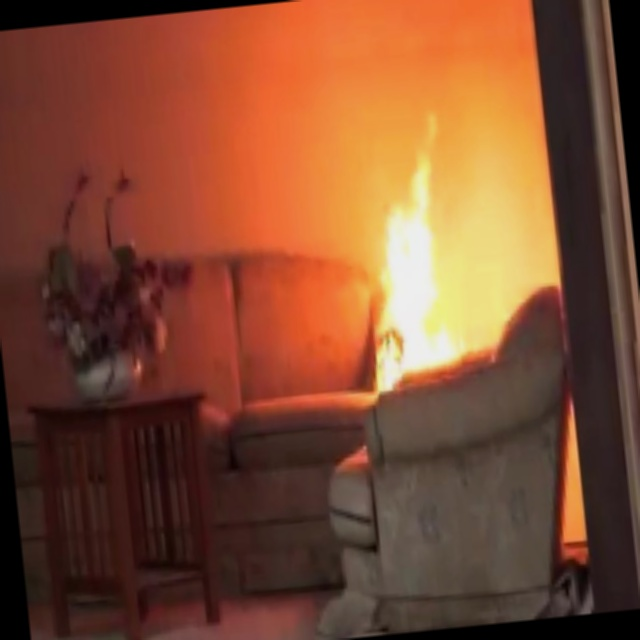fire: (346, 133, 496, 393)
